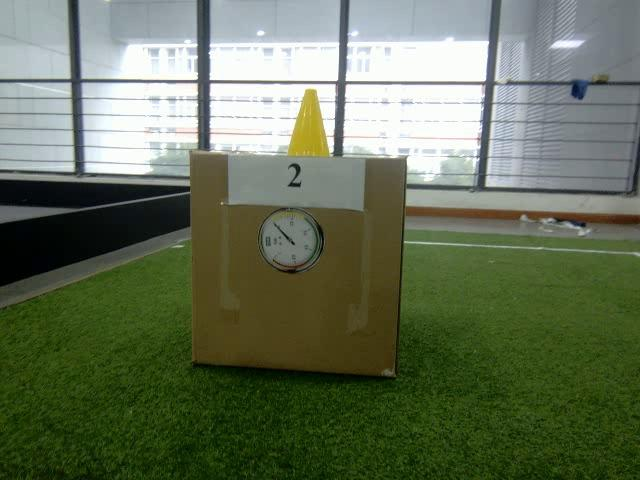2: (286, 160, 303, 191)
Dashboard: (256, 207, 324, 275)
ssi: (264, 234, 272, 248)
yellow_barrel: (283, 89, 334, 156)
